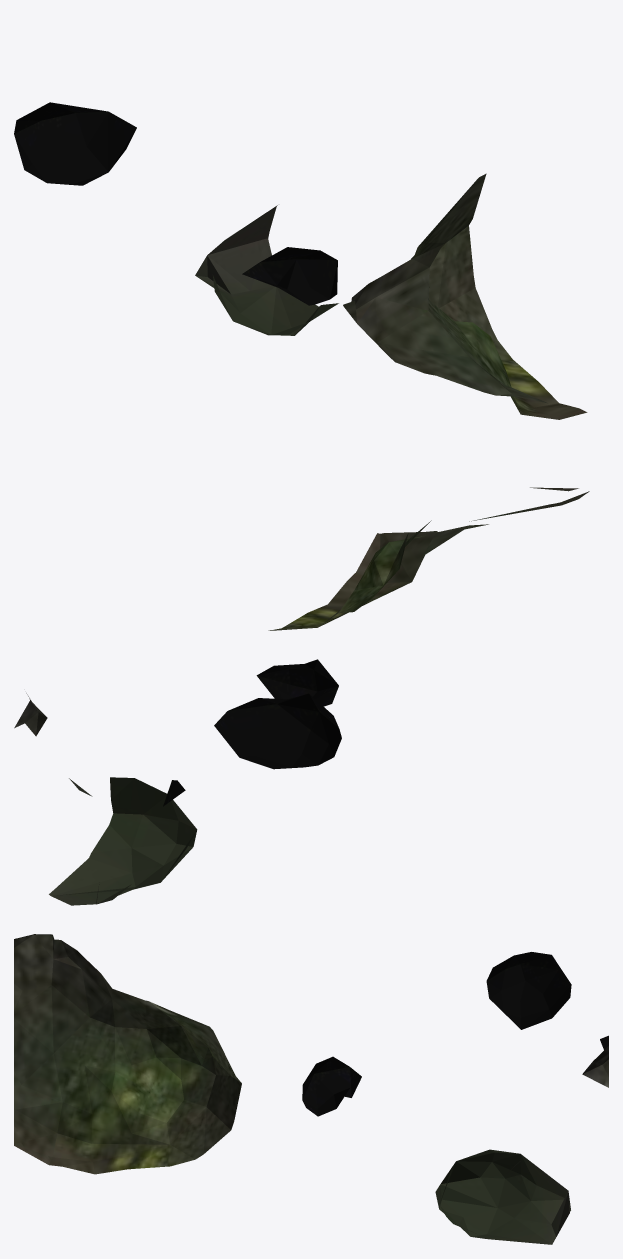
3 renders of one model, top to bottom at view 1: azimuth 30°, elevation 25°; view 2: azimuth 150°, elevation 25°; view 3: azimuth 270°, elevation 25°, orthographic. The views are drawn at different scales.
Bounding box in the file's own units: 1.28 × 1.22 × 2.95.
Materials: 1 (1 with a texture image).
